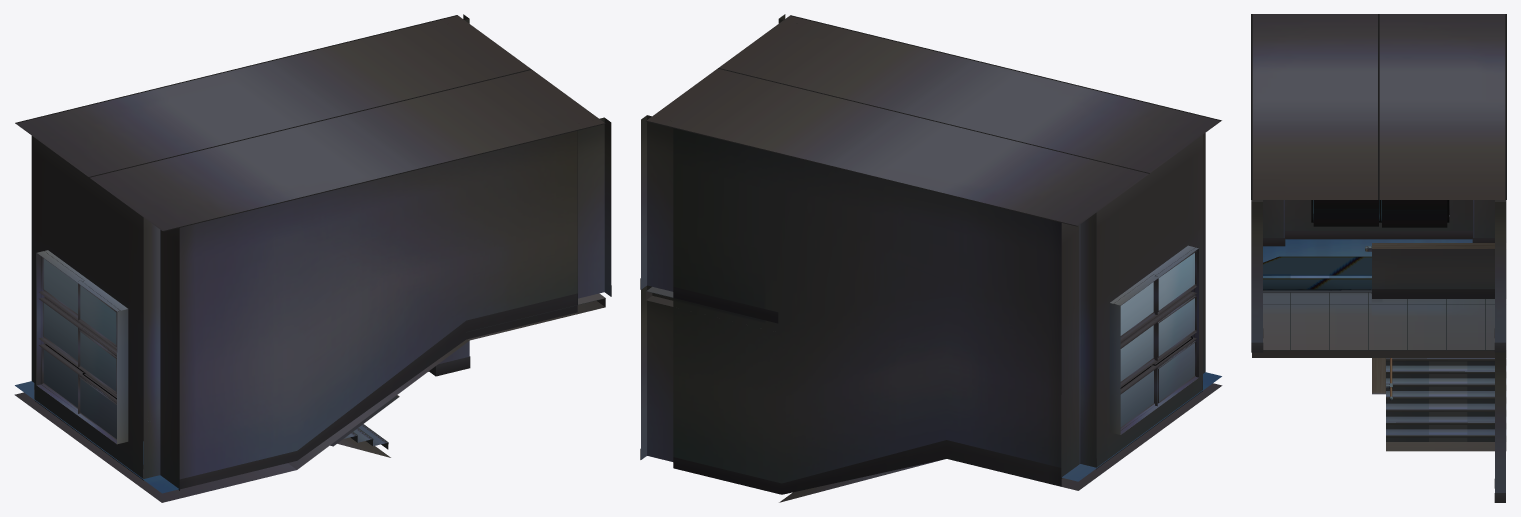
File: JpsStairs_ToRoofTop_night.FBX
3 views of the same model, side by side, from view 1: azimuth 30°, elevation 25°; view 2: azimuth 150°, elevation 25°; view 3: azimuth 270°, elevation 25° (orthographic). The views are drawn at different scales.
Parts seen in each view (by area): view 1: Sta_ToRoofTop_wallB_nig, Sta_ToRoofTop_StairsCeiling_nig, Sta_ToRoofTop_window_nig, Sta_ToRoofTop_stairs_nig, Sta_ToRoofTop_wallF_nig; view 2: Sta_ToRoofTop_wallF_nig, Sta_ToRoofTop_StairsCeiling_nig, Sta_ToRoofTop_window_nig, Sta_ToRoofTop_stairs_nig; view 3: Sta_ToRoofTop_StairsCeiling_nig, Sta_ToRoofTop_stairs_nig, Sta_ToRoofTop_window_nig, Sta_ToRoofTop_beam01_add_nig, Sta_ToRoofTop_spotF_nig, Sta_ToRoofTop_wallF_nig, Sta_ToRoofTop_baseboards_nig, Sta_ToRoofTop_wallB_nig.
Boxes of the visible parts, box(x1,y1,x2,y2) form: Sta_ToRoofTop_wallB_nig: box(179, 117, 611, 489); Sta_ToRoofTop_StairsCeiling_nig: box(15, 15, 605, 231); Sta_ToRoofTop_window_nig: box(31, 136, 179, 489); Sta_ToRoofTop_stairs_nig: box(14, 293, 605, 502); Sta_ToRoofTop_wallF_nig: box(428, 14, 470, 376); Sta_ToRoofTop_wallF_nig: box(640, 115, 1061, 494); Sta_ToRoofTop_StairsCeiling_nig: box(646, 15, 1221, 226); Sta_ToRoofTop_window_nig: box(1061, 133, 1205, 477); Sta_ToRoofTop_stairs_nig: box(646, 286, 1222, 502); Sta_ToRoofTop_StairsCeiling_nig: box(1251, 14, 1506, 199); Sta_ToRoofTop_stairs_nig: box(1252, 239, 1506, 451); Sta_ToRoofTop_window_nig: box(1263, 200, 1506, 237); Sta_ToRoofTop_beam01_add_nig: box(1313, 200, 1447, 227); Sta_ToRoofTop_spotF_nig: box(1263, 256, 1371, 290); Sta_ToRoofTop_wallF_nig: box(1494, 200, 1505, 502); Sta_ToRoofTop_baseboards_nig: box(1263, 231, 1506, 246); Sta_ToRoofTop_wallB_nig: box(1251, 200, 1263, 352).
Size of the model in its own units: 826 by 616 by 463.
